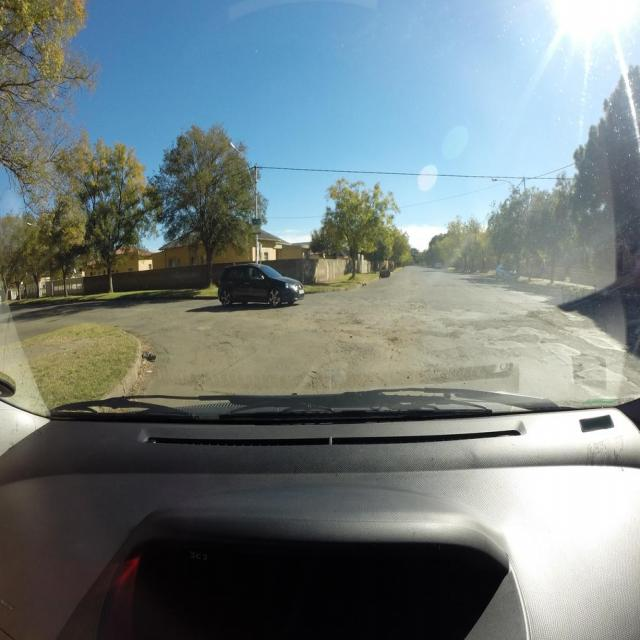Pothole: (353, 328, 401, 344)
